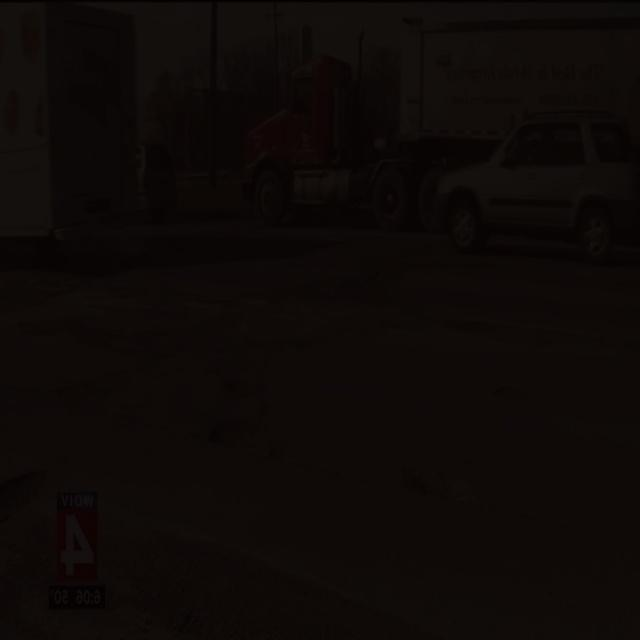Pothole: (40, 303, 322, 366), (422, 308, 606, 348), (194, 399, 290, 466), (396, 455, 488, 519), (0, 459, 53, 514), (492, 385, 530, 405)
